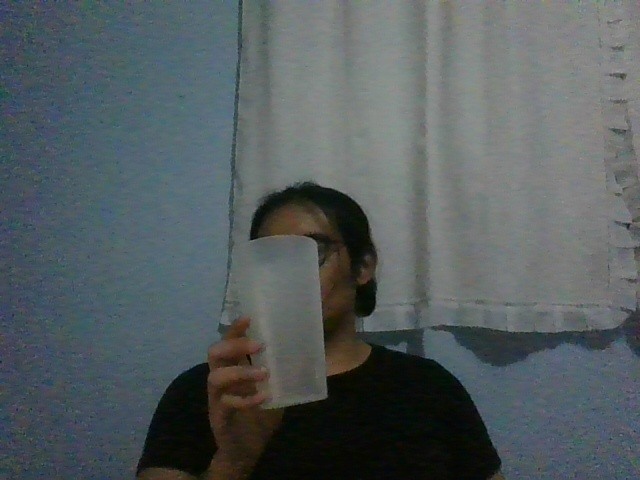vaso: (229, 234, 329, 410)
